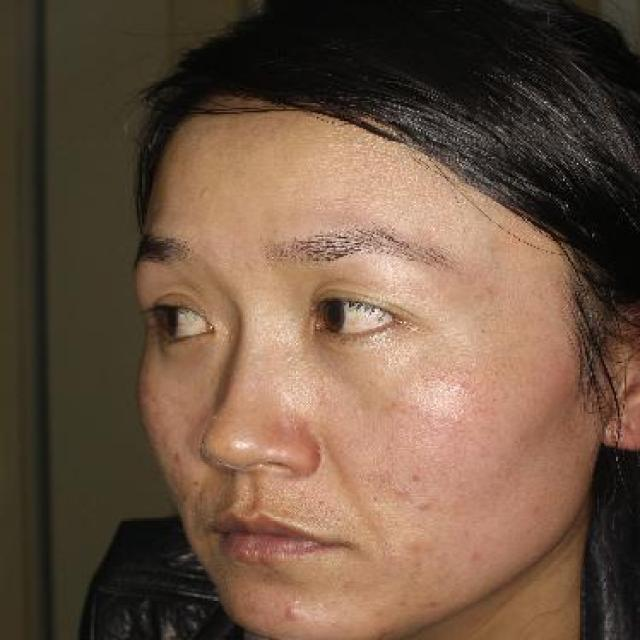dark spot: (419, 596, 448, 612), (414, 494, 435, 515), (394, 595, 416, 614), (393, 482, 412, 503), (407, 466, 426, 486), (369, 600, 388, 620), (467, 548, 488, 566)
papules: (278, 600, 306, 625)
